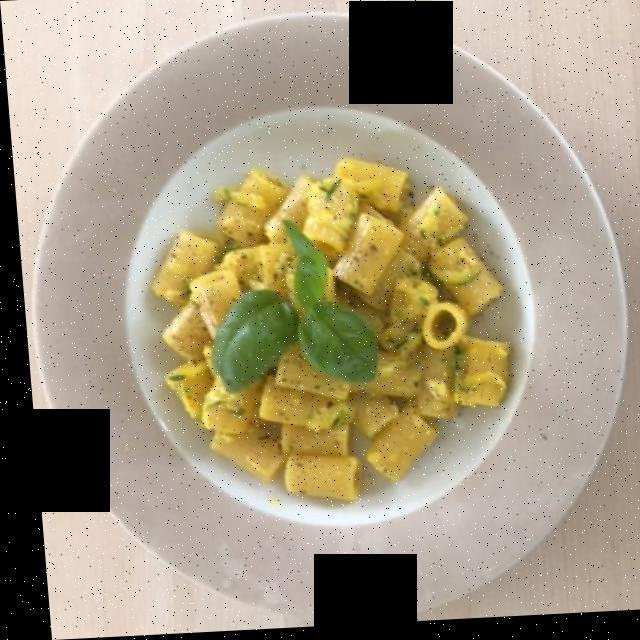pasta: (152, 167, 500, 499)
